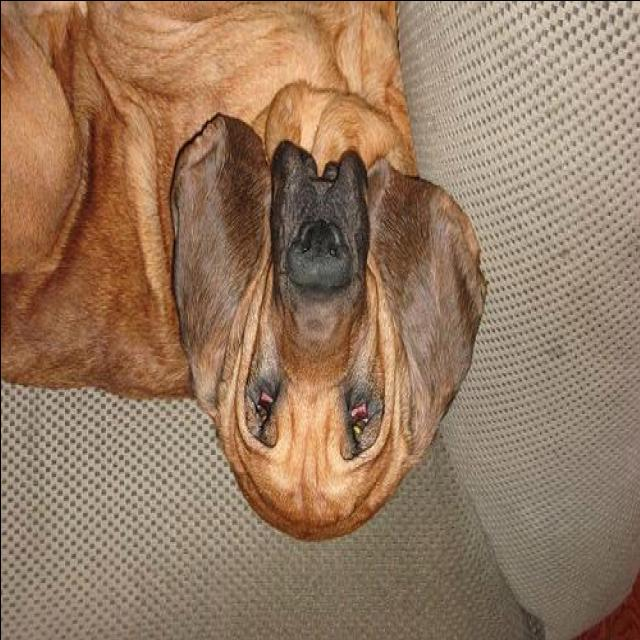bloodhound: (2, 1, 486, 542)
